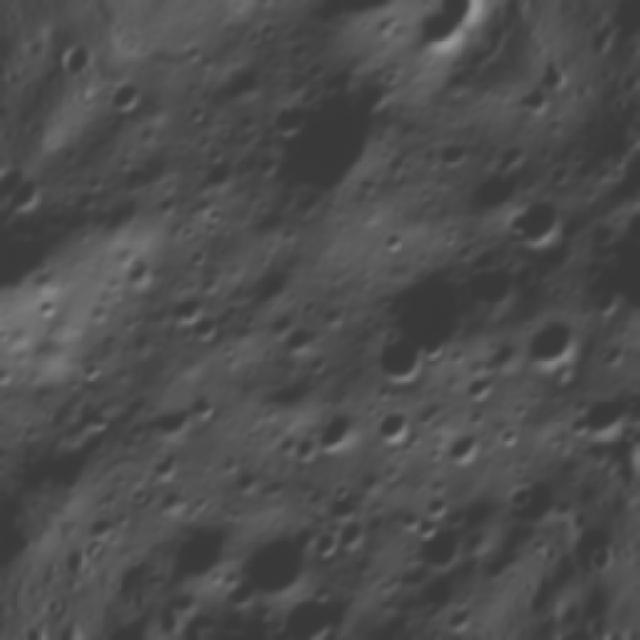crater: (369, 310, 458, 398), (517, 312, 585, 383), (509, 192, 573, 257), (408, 515, 472, 577), (296, 518, 352, 573), (308, 415, 362, 467), (418, 8, 468, 61), (100, 72, 148, 121), (7, 177, 55, 225), (368, 409, 412, 453)
